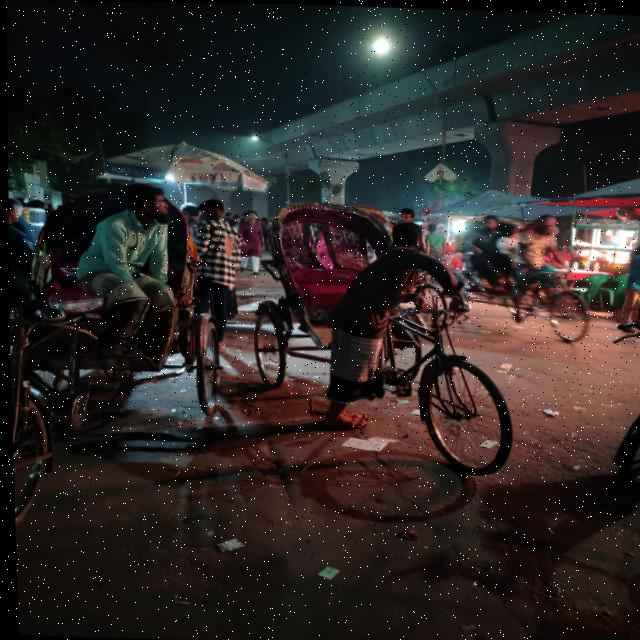rikshaw: (3, 144, 222, 476), (249, 180, 450, 453), (464, 197, 591, 353)
